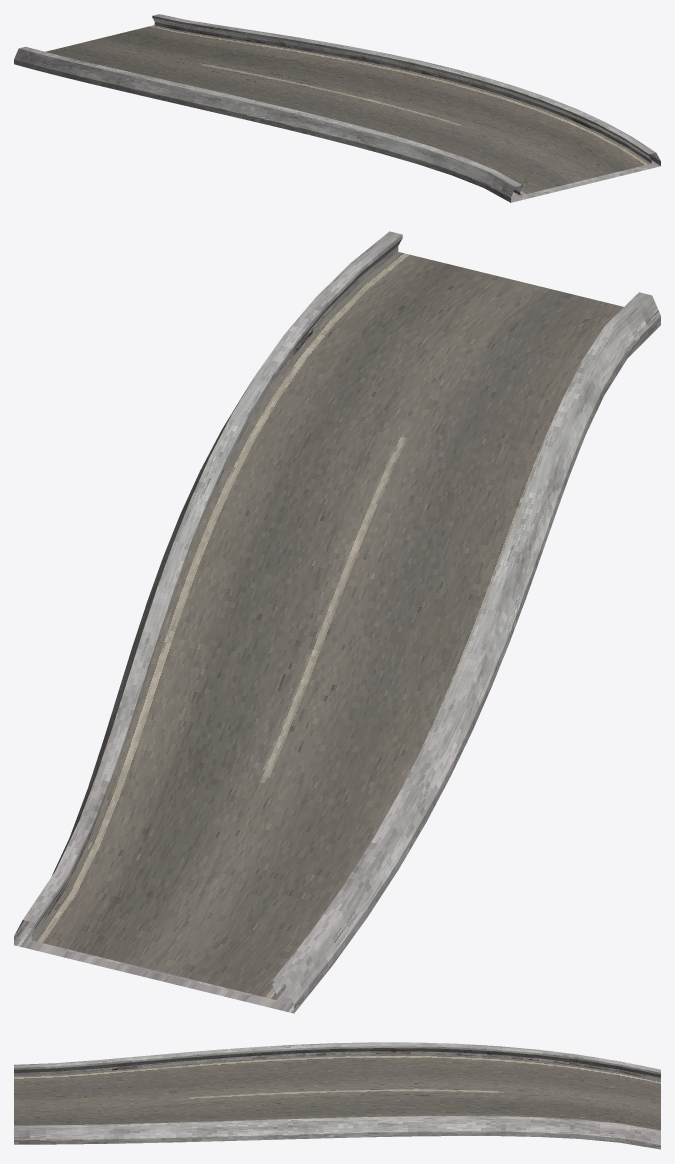
The model's file is road-Chicane-Flat-BiSlopeDown-Down2-Left1-Size4.glb.
3 renders of one model, top to bottom at view 1: azimuth 30°, elevation 25°; view 2: azimuth 150°, elevation 25°; view 3: azimuth 270°, elevation 25°, orthographic. The views are drawn at different scales.
Parts seen in each view (by area): view 1: road-Chicane-Flat-BiSlopeDown-Down2-Left1-Size4; view 2: road-Chicane-Flat-BiSlopeDown-Down2-Left1-Size4; view 3: road-Chicane-Flat-BiSlopeDown-Down2-Left1-Size4.
Boxes of the visible parts, bbox=[...] form: road-Chicane-Flat-BiSlopeDown-Down2-Left1-Size4: bbox=[14, 14, 660, 202]; road-Chicane-Flat-BiSlopeDown-Down2-Left1-Size4: bbox=[14, 231, 660, 1013]; road-Chicane-Flat-BiSlopeDown-Down2-Left1-Size4: bbox=[14, 1042, 660, 1149].
Size of the model in its own units: 2 by 0.5938 by 4.
Materials: 2 (2 with a texture image).
